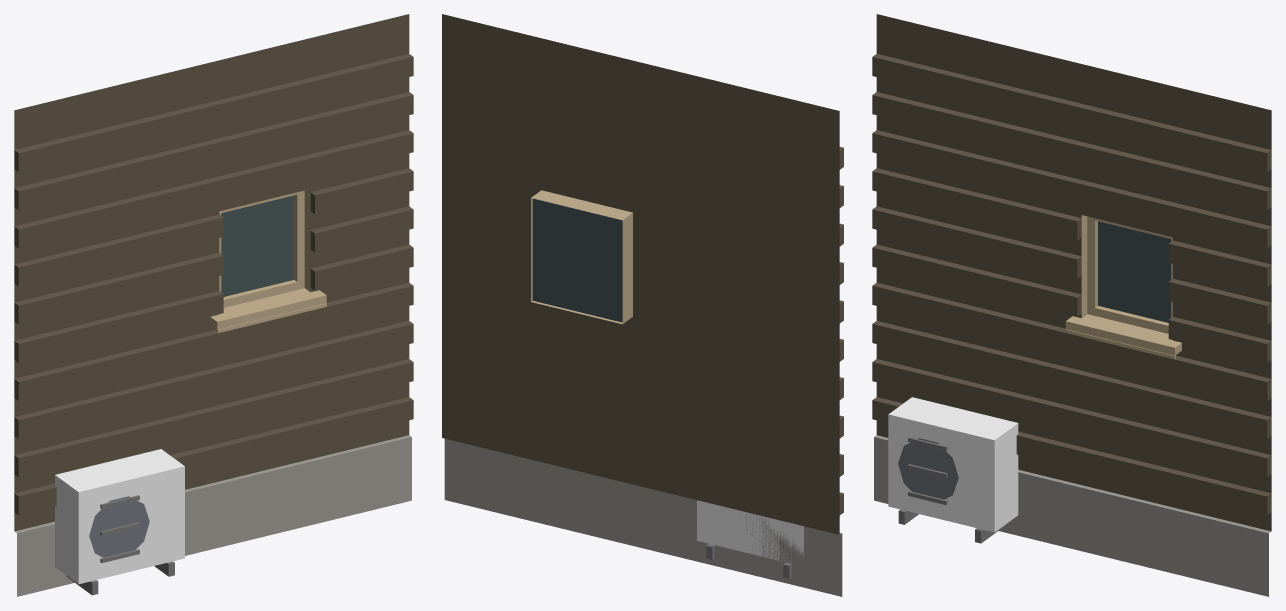
File: base-w4_close.fbx
The picture shows the model from 3 angles, left to right: view 1: azimuth 30°, elevation 25°; view 2: azimuth 150°, elevation 25°; view 3: azimuth 330°, elevation 25°; orthographic projection.
Visible parts, largest first — view 1: a2015/400/base-w4_close; view 2: a2015/400/base-w4_close; view 3: a2015/400/base-w4_close.
Boxes of the visible parts, x1,y1,x2,y2 form: a2015/400/base-w4_close: (14,14,413,596); a2015/400/base-w4_close: (442,14,843,596); a2015/400/base-w4_close: (872,14,1271,596).
Size of the model in its own units: 2.6 by 3.05 by 0.44.
